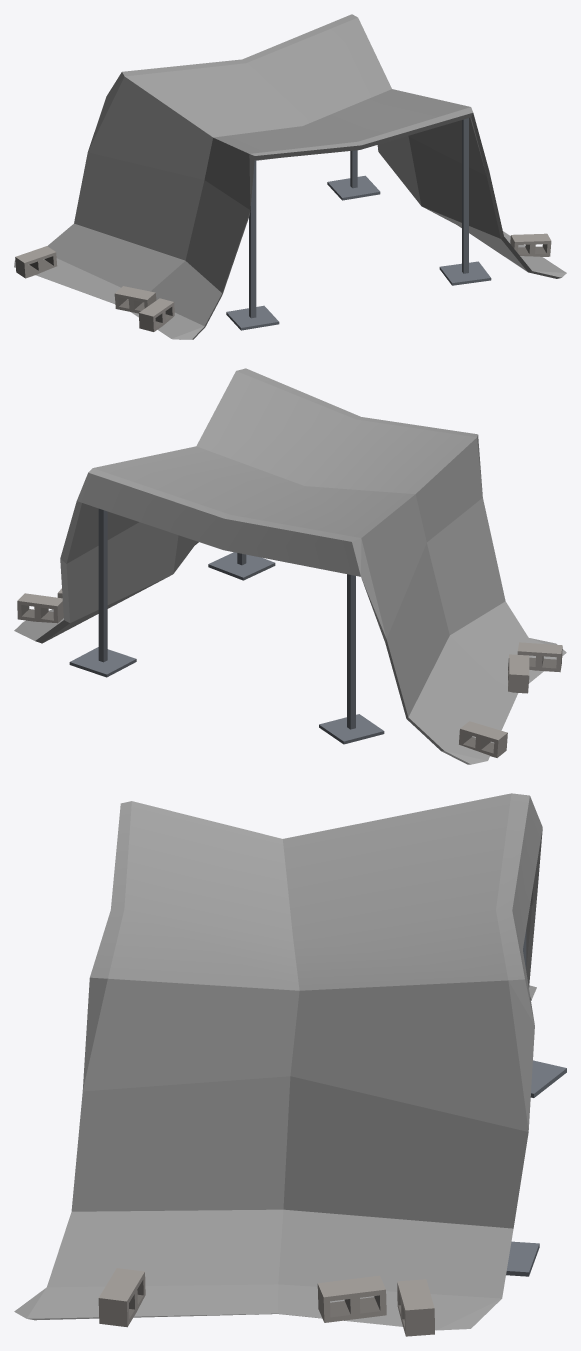
File: AI_Prop_Makeshift_Tent_01.fbx
3 views of the same model, one above another, from view 1: azimuth 30°, elevation 25°; view 2: azimuth 150°, elevation 25°; view 3: azimuth 270°, elevation 25° (orthographic). The views are drawn at different scales.
Visible parts, largest first — view 1: AI_Prop_Makeshift_Tent_01; view 2: AI_Prop_Makeshift_Tent_01; view 3: AI_Prop_Makeshift_Tent_01.
Boxes of the visible parts, box(x1,y1,x2,y2) form: AI_Prop_Makeshift_Tent_01: box(14, 14, 566, 339); AI_Prop_Makeshift_Tent_01: box(14, 368, 566, 764); AI_Prop_Makeshift_Tent_01: box(14, 793, 566, 1336).
Size of the model in its own units: 9.95 by 3.71 by 6.47.
